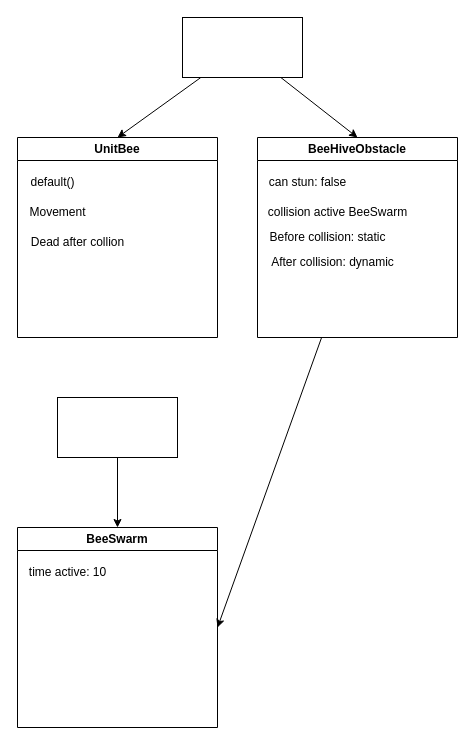
Some shapes in this 475 by 745 pixel diagram are drawn without their labels. Here are the shapes that lost their labels. From the top down, the centre of each, then its label:
At (242,47): "TrapObstacle".
At (117,427): "DeadlyObstacle".
